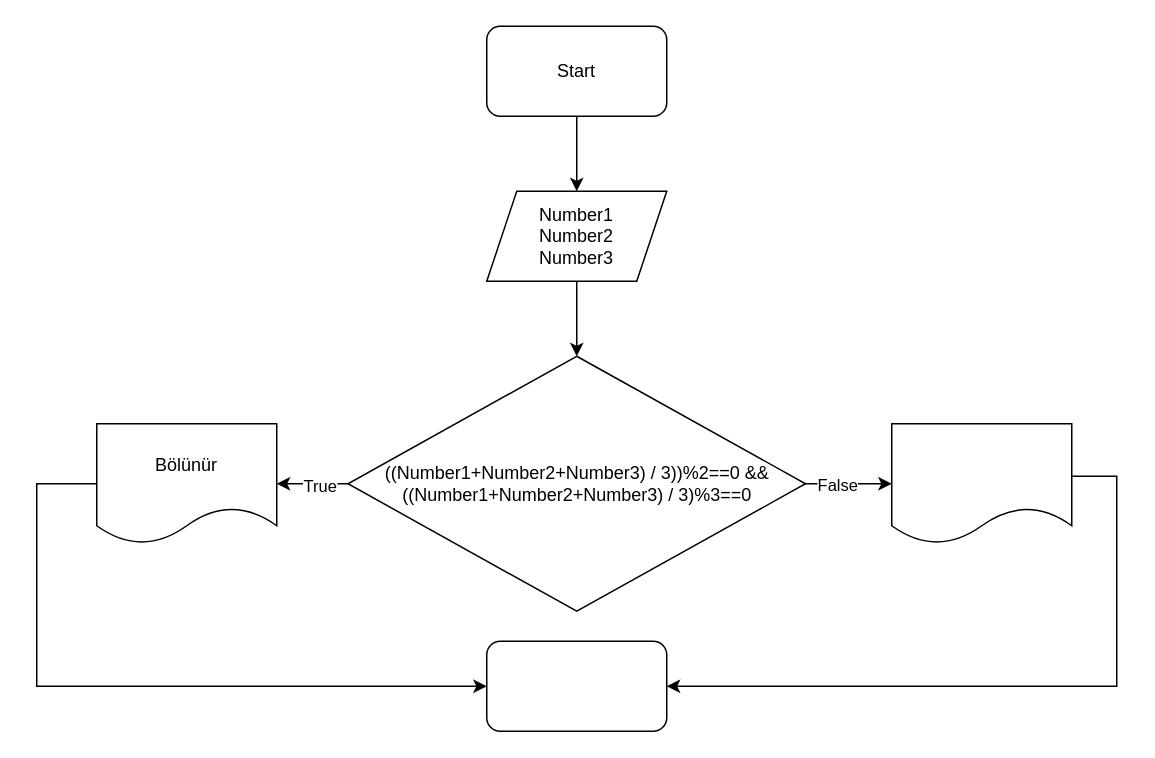
The diagram is 1155 pixels wide and 758 high, and some of its shapes have lost their labels. The centre of each missing label's shape, as x and y in pixels:
Bölünmür: (981,483)
End: (576,685)
